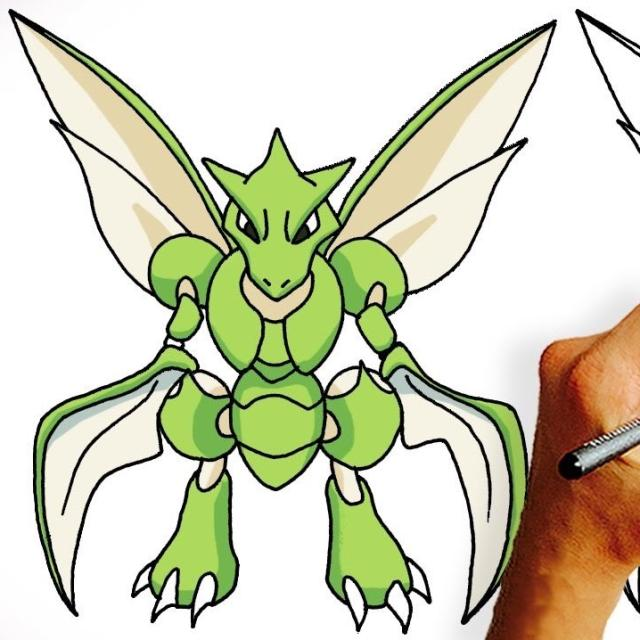Scyther: (47, 112, 476, 617)
